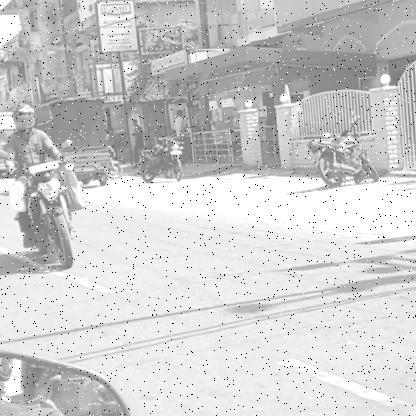motorcycle: (3, 157, 93, 283)
